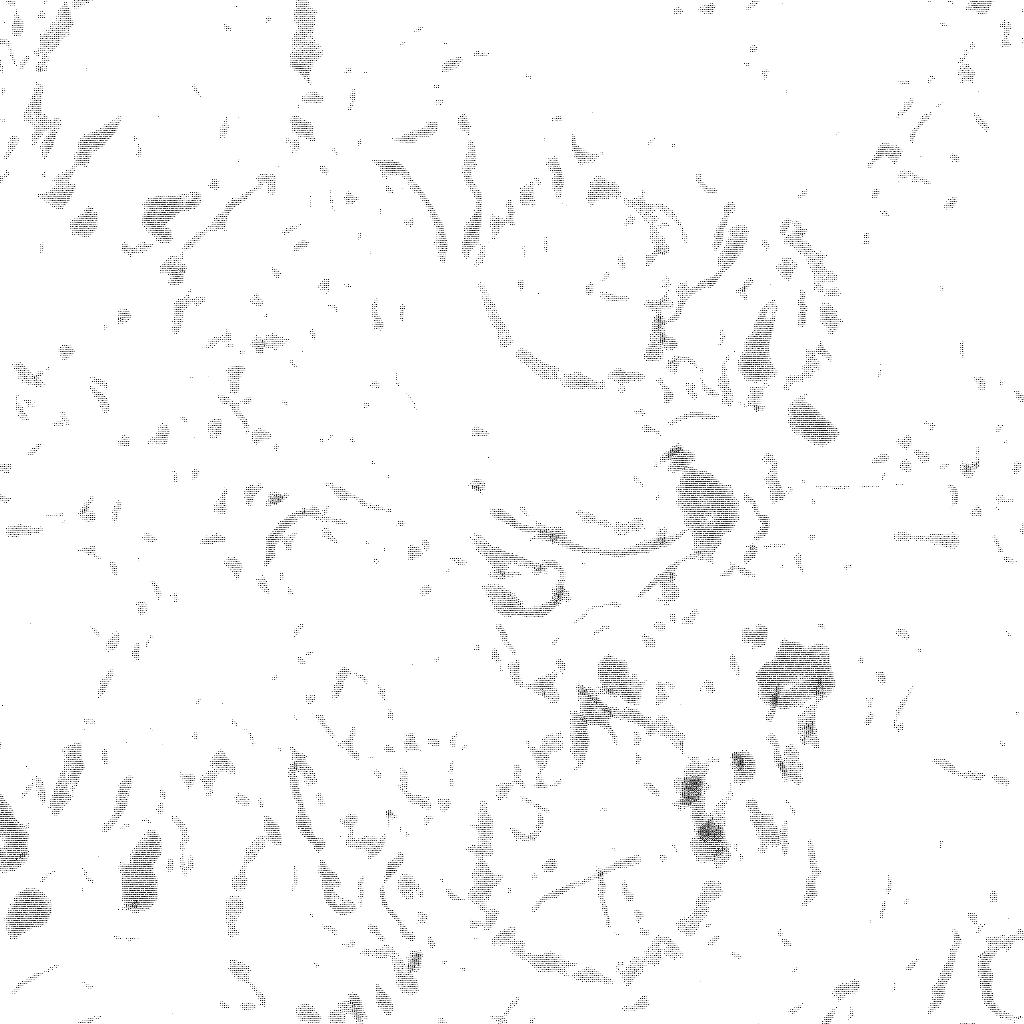axone: (670, 465, 748, 572), (753, 638, 839, 717), (114, 822, 165, 917), (734, 294, 787, 383), (137, 188, 206, 248), (591, 646, 653, 708), (782, 393, 845, 451), (1, 882, 54, 939)
